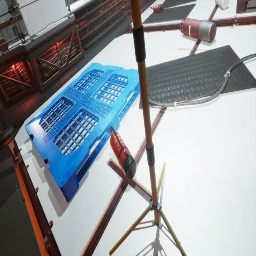0: (215, 0, 229, 10)
FireExtinguisher ]: (110, 126, 137, 180), (150, 4, 164, 12)
NitrogenTank ,: (180, 18, 217, 43), (0, 38, 8, 52)
